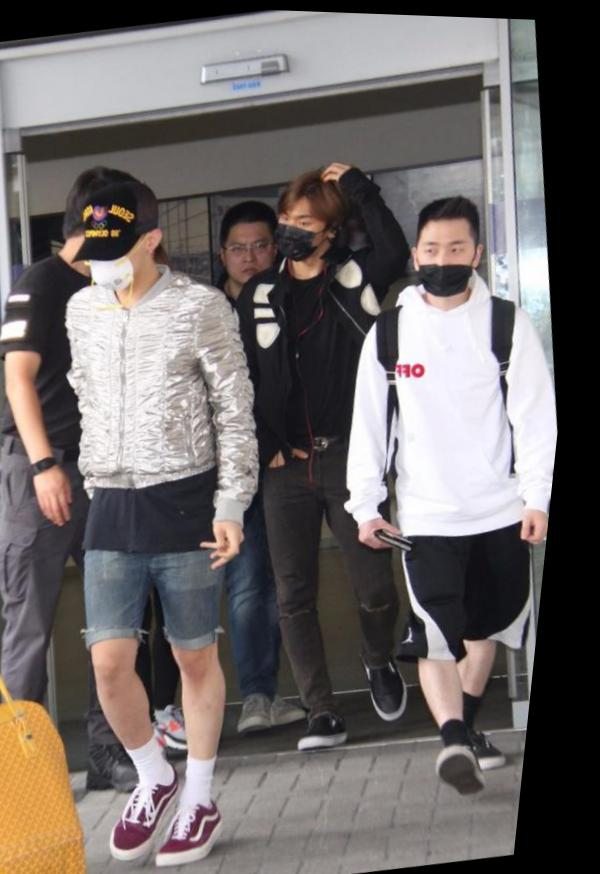NONE: (224, 229, 284, 284)
OK: (274, 197, 335, 264), (89, 233, 152, 292)
WRONG: (416, 226, 485, 298)
